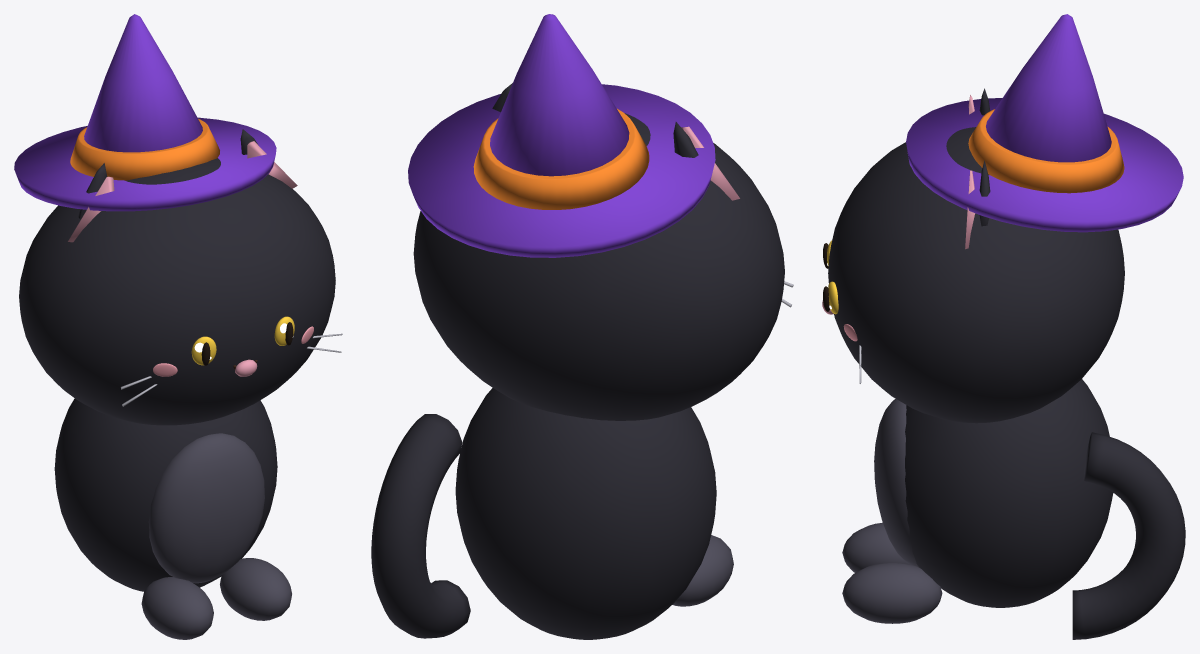
The model's file is p-blackcat.glb.
3 views of the same model, side by side, from view 1: azimuth 30°, elevation 25°; view 2: azimuth 150°, elevation 25°; view 3: azimuth 270°, elevation 25° (orthographic). The views are drawn at different scales.
Visible parts, largest first — view 1: p-blackcat, ear-R, ear-L, blink-R, blink-L; view 2: p-blackcat, wag, ear-R; view 3: p-blackcat, wag, ear-L.
Part boxes in pixels (bbox=[...]): p-blackcat: bbox=[14, 14, 342, 639]; ear-R: bbox=[68, 163, 114, 242]; ear-L: bbox=[240, 129, 297, 188]; blink-R: bbox=[191, 336, 216, 365]; blink-L: bbox=[274, 316, 294, 345]; p-blackcat: bbox=[408, 14, 793, 639]; wag: bbox=[371, 414, 470, 638]; ear-R: bbox=[673, 122, 739, 200]; p-blackcat: bbox=[822, 14, 1183, 623]; wag: bbox=[1072, 432, 1185, 639]; ear-L: bbox=[965, 160, 990, 249].
Bounding box in the file's own units: 0.1515 × 0.28 × 0.1573.
